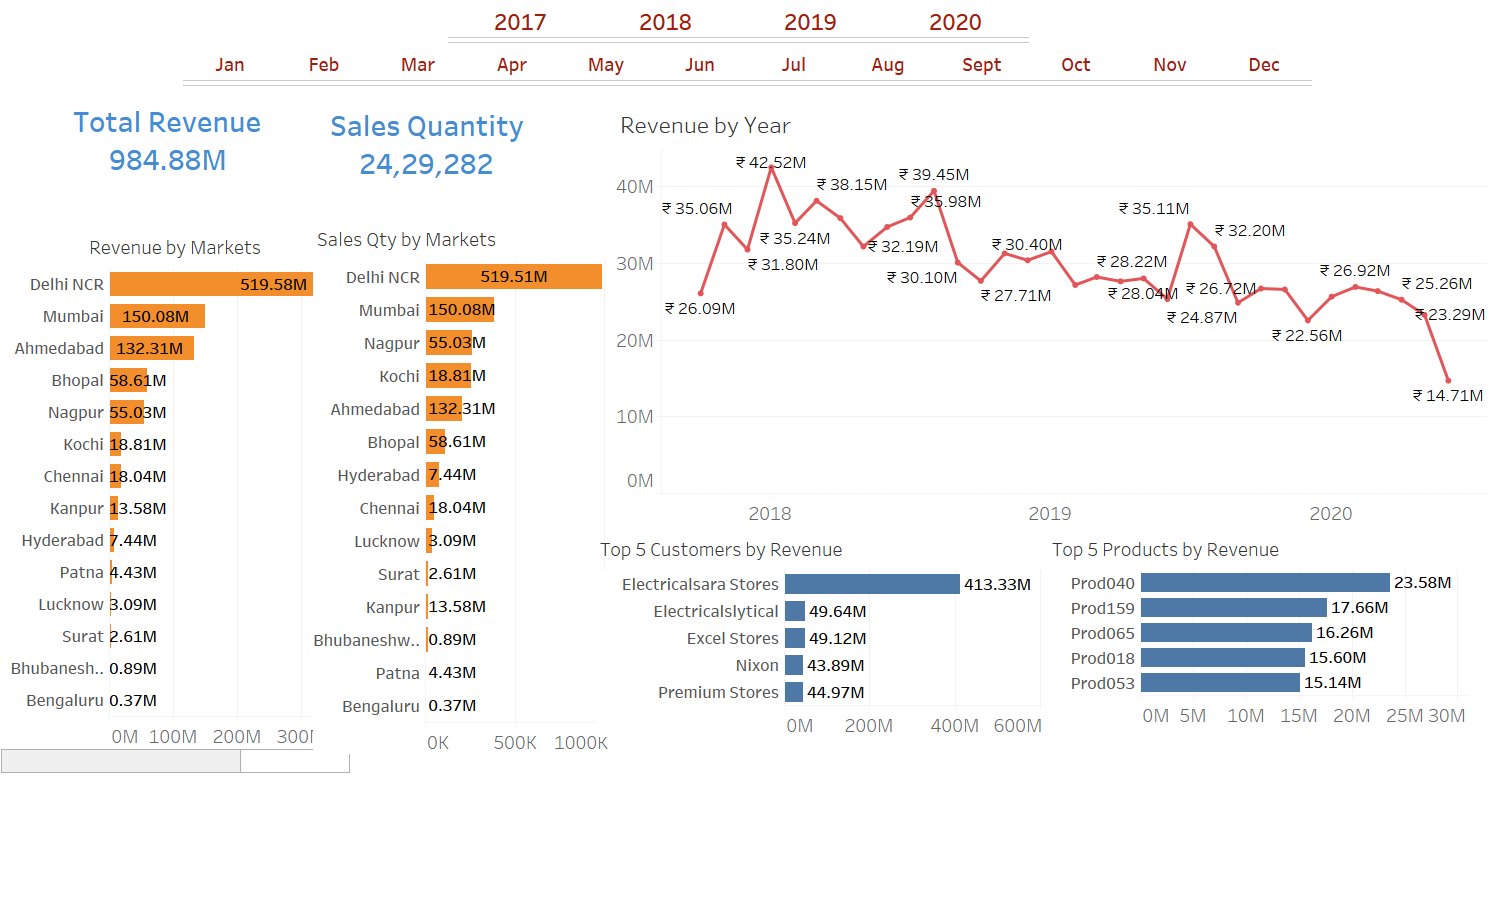

The page's visual inventory and layout, read from the dashboard file:
{"tool":"tableau","page":{"name":"Dashboard - Revenue Analysis","canvas":[1500,900],"ordinal":1},"visuals":[{"type":"worksheet","title":"Month","mark":"Automatic","cols":["cy_date"],"box":[183,33,1188,247]},{"type":"worksheet","title":"Revenue","mark":"Automatic","box":[68,102,228,123]},{"type":"worksheet","title":"Revenue by Year","mark":"Automatic","rows":["Calculation_1688286974649286658"],"cols":["cy_date"],"box":[616,103,871,422]},{"type":"worksheet","title":"Quantity","mark":"Automatic","box":[317,106,222,125]},{"type":"worksheet","title":"Sales Qty by Markets","mark":"Automatic","rows":["markets_name"],"cols":["sales_qty"],"box":[313,220,298,672]},{"type":"worksheet","title":"Revenue by Markets","mark":"Automatic","rows":["markets_name"],"cols":["Calculation_1688286974649286658"],"box":[1,228,348,638]},{"type":"worksheet","title":"Top 5 Customers by Revenue","mark":"Automatic","rows":["custmer_name"],"cols":["Calculation_1688286974649286658"],"box":[596,530,449,349]},{"type":"worksheet","title":"Top 5 Products by Revenue","mark":"Automatic","rows":["product_code (products)"],"cols":["Calculation_1688286974649286658"],"box":[1048,530,420,360]}]}

Visuals, with their boxes in screenshot pixels (x1, y1, x2, y2), scaled from the page's 1500x900 canvas onto the 1500x900 screenshot:
"Month" worksheet: rect(183, 33, 1371, 280)
"Revenue" worksheet: rect(68, 102, 296, 225)
"Revenue by Year" worksheet: rect(616, 103, 1487, 525)
"Quantity" worksheet: rect(317, 106, 539, 231)
"Sales Qty by Markets" worksheet: rect(313, 220, 611, 892)
"Revenue by Markets" worksheet: rect(1, 228, 349, 866)
"Top 5 Customers by Revenue" worksheet: rect(596, 530, 1045, 879)
"Top 5 Products by Revenue" worksheet: rect(1048, 530, 1468, 890)
